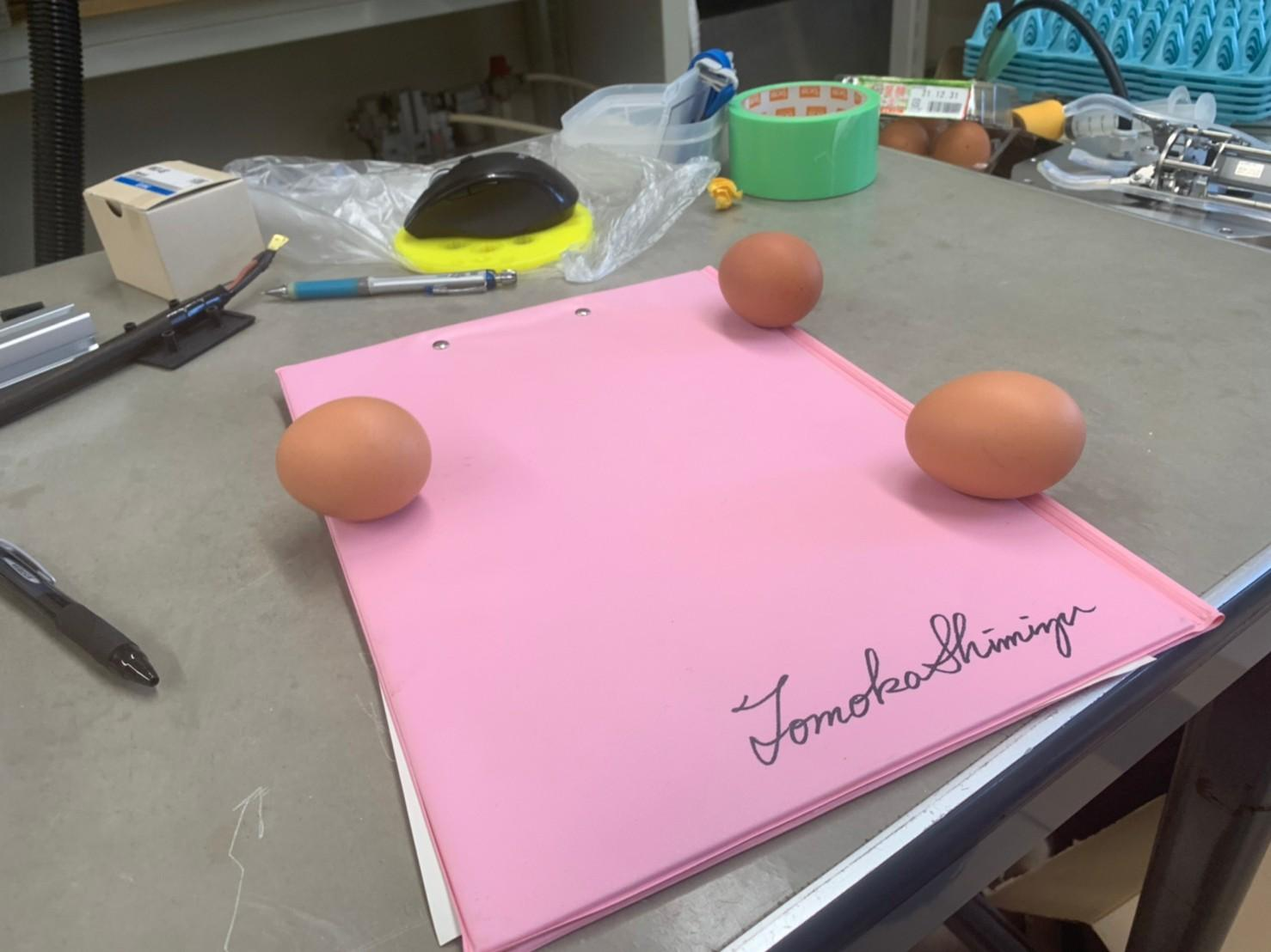egg: (898, 370, 1088, 508), (270, 390, 433, 522), (711, 229, 838, 333)
